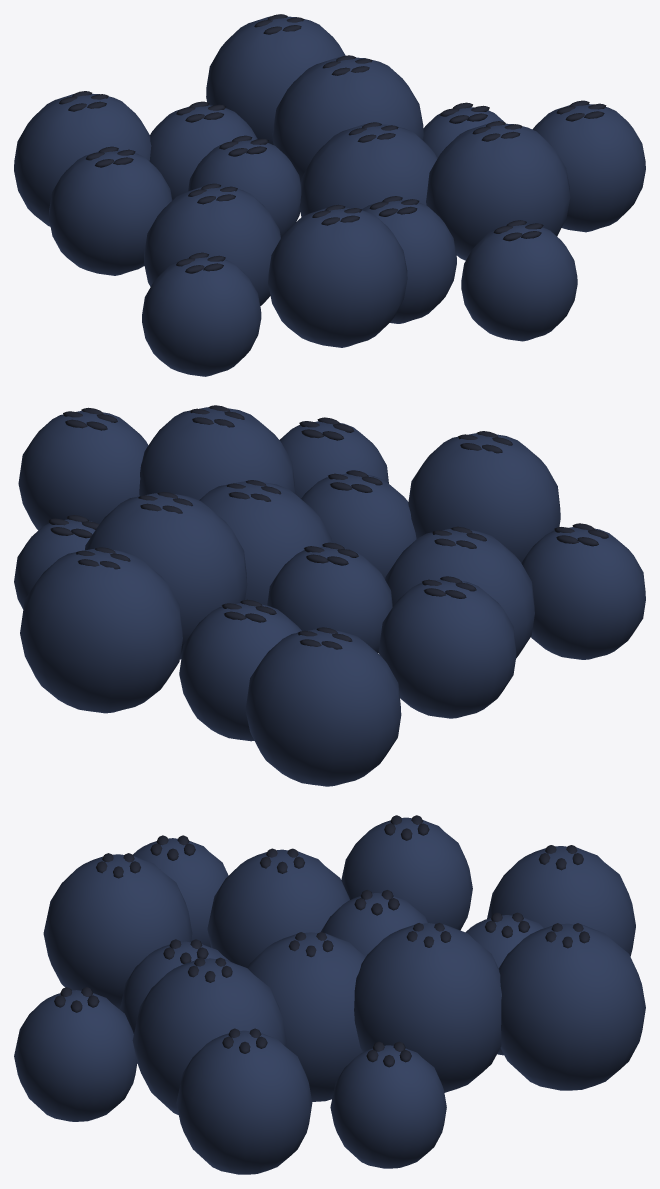
Rendered from savory-blueberries.glb.
The picture shows the model from 3 angles, top to bottom: view 1: azimuth 30°, elevation 25°; view 2: azimuth 150°, elevation 25°; view 3: azimuth 270°, elevation 25°; orthographic projection. The views are drawn at different scales.
Parts seen in each view (by area): view 1: savory-blueberries; view 2: savory-blueberries; view 3: savory-blueberries.
Boxes of the visible parts, box(x1,y1,x2,y2) form: savory-blueberries: box(14, 14, 645, 376); savory-blueberries: box(14, 405, 645, 786); savory-blueberries: box(14, 815, 645, 1174).
Bounding box in the file's own units: 1.15 × 0.3351 × 1.08.
